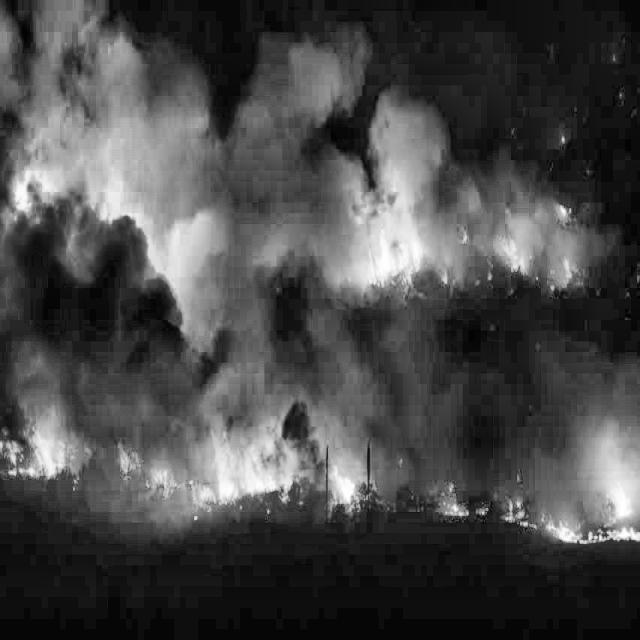fire: (328, 122, 627, 368), (451, 407, 640, 623), (186, 386, 338, 568), (11, 342, 111, 548), (338, 390, 421, 584), (329, 387, 334, 387)
